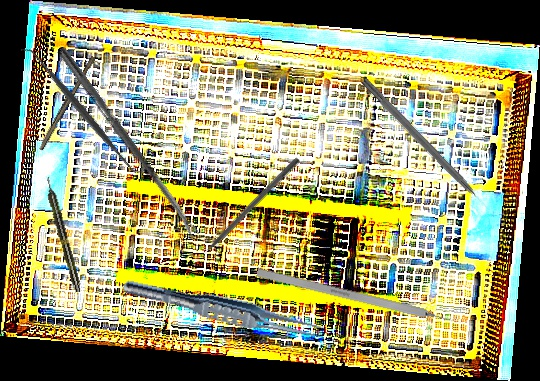Handpiece: (42, 175, 84, 294)
Hook Surgical: (359, 77, 492, 214), (255, 267, 467, 329)
Pusher: (189, 155, 302, 267)
Scalpel Handle: (37, 54, 96, 152)
Spatula Surgical: (18, 38, 145, 183)
Surgical Spoon: (56, 47, 200, 239)
Tissue Forceps: (120, 274, 329, 346)
